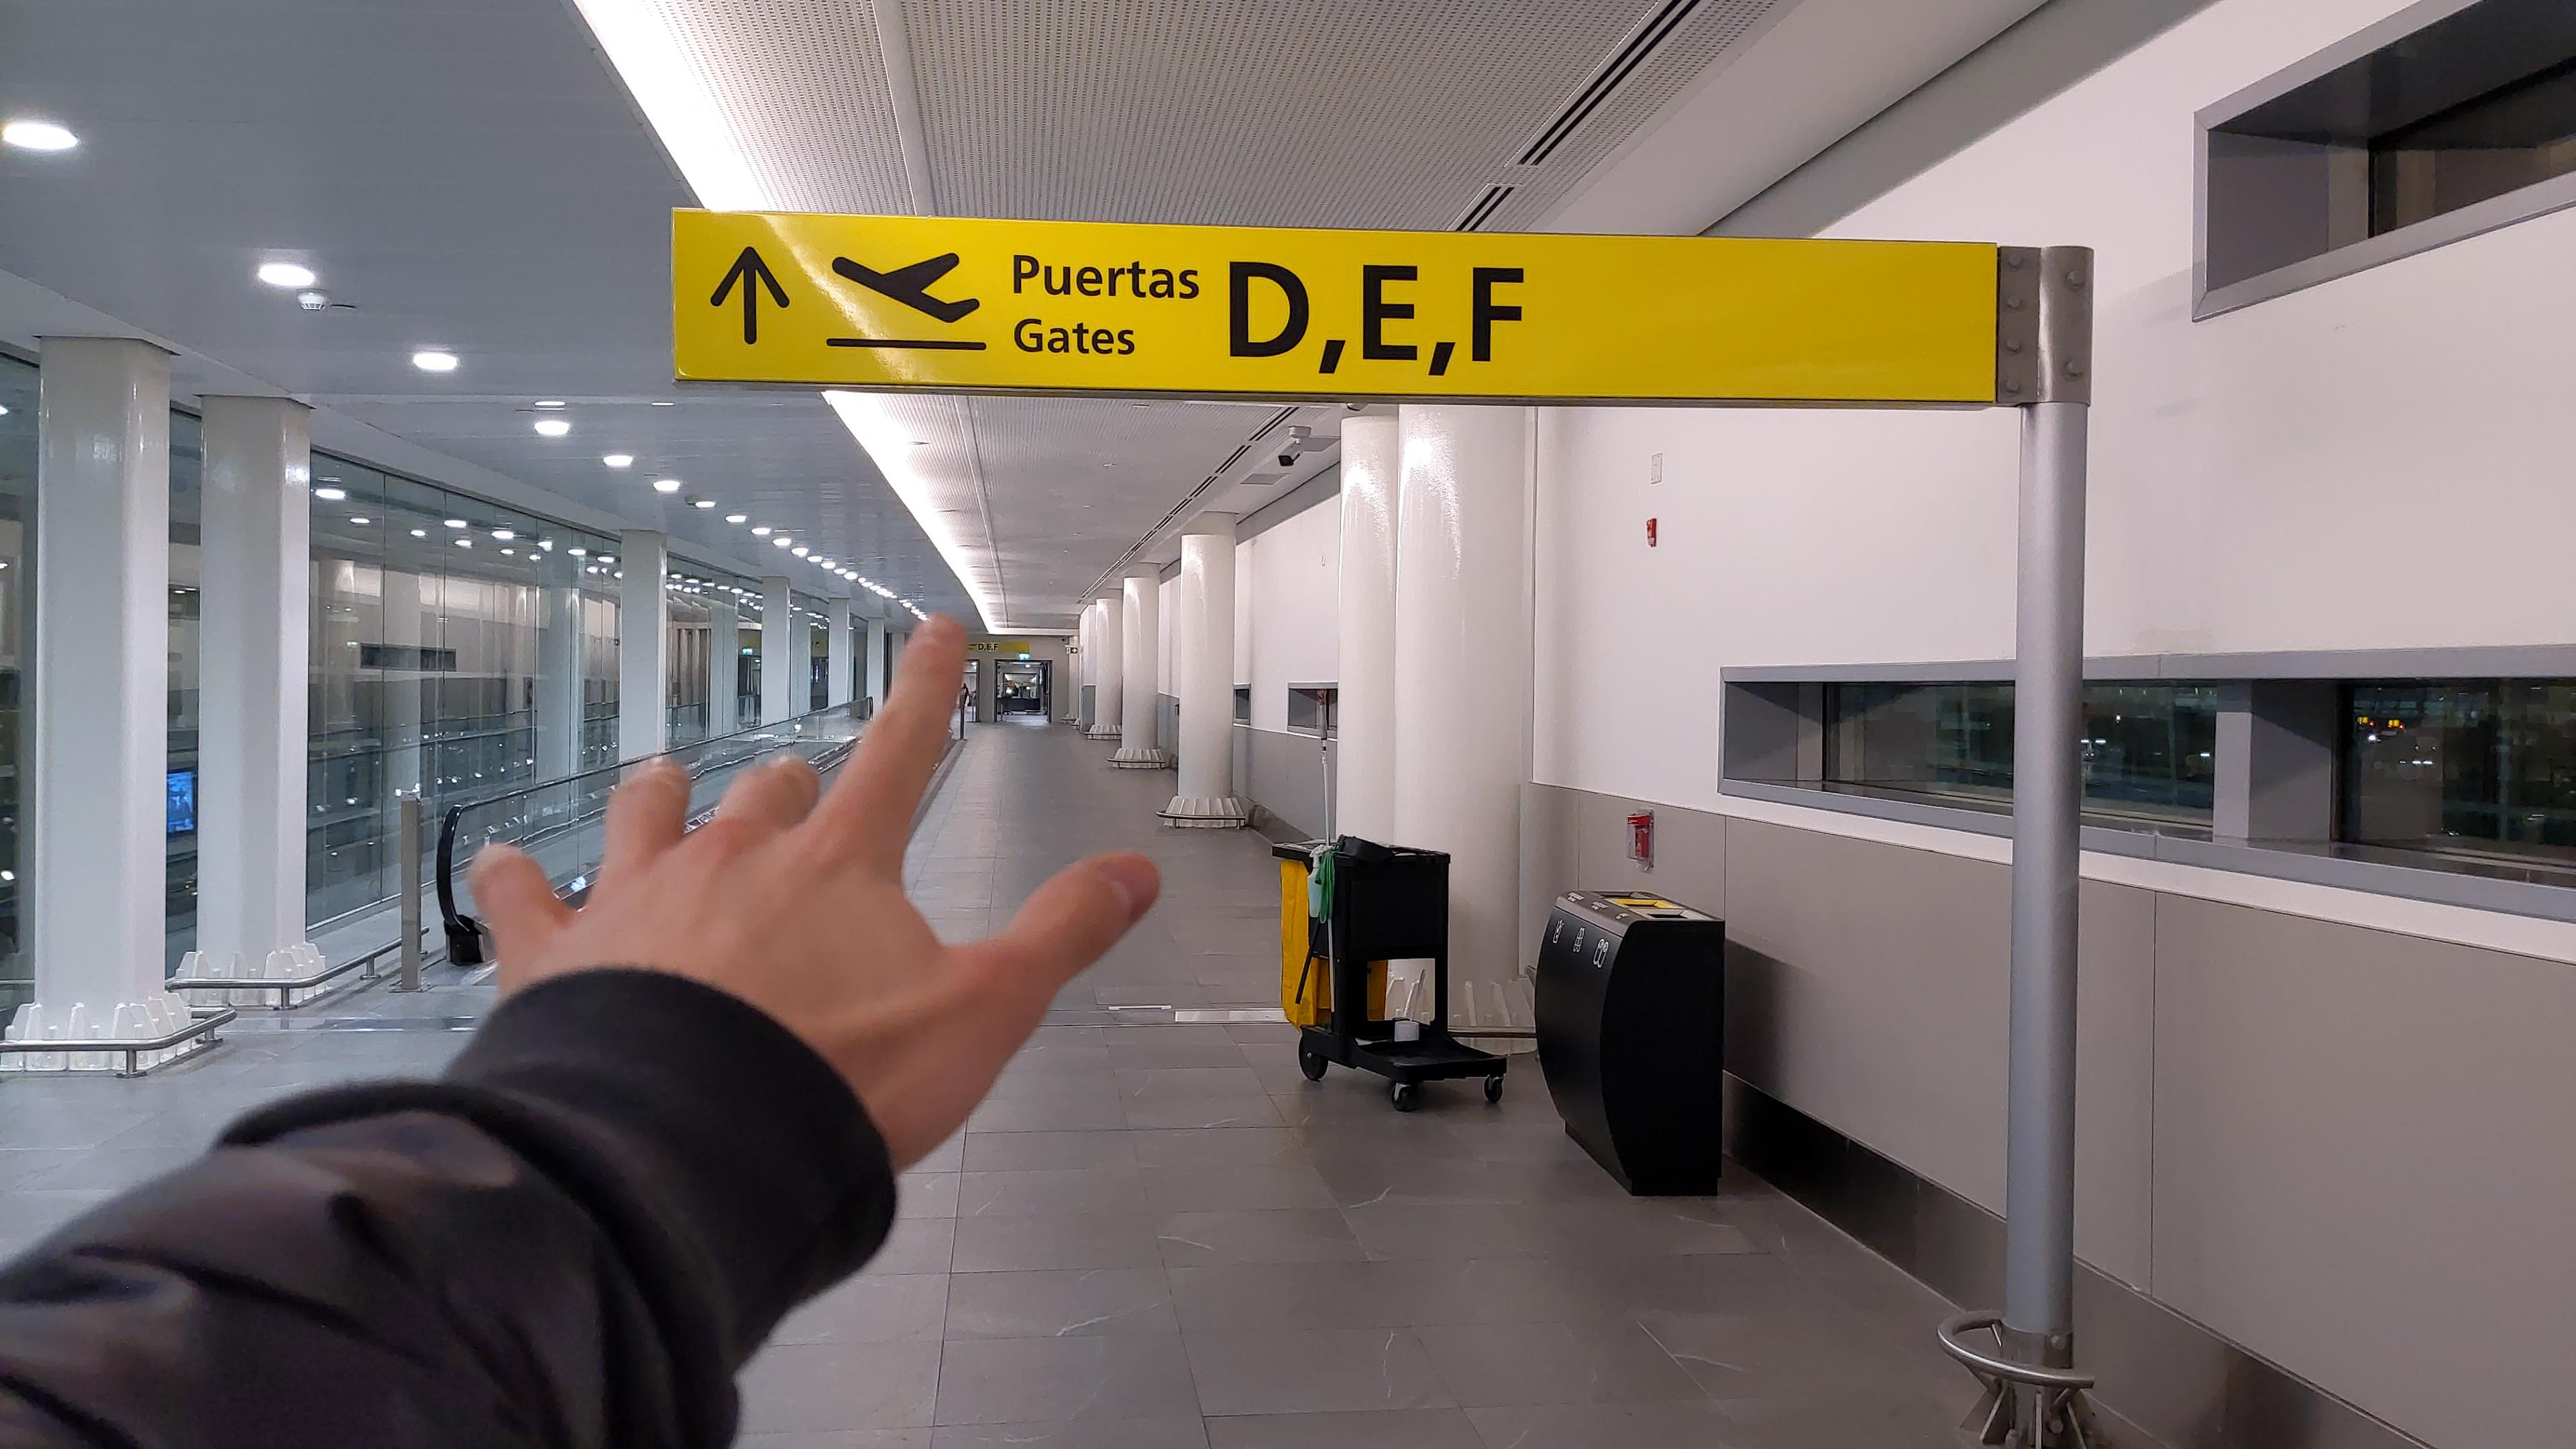airplane symbol: (828, 246, 987, 327)
thin up arrow: (708, 242, 796, 347)
